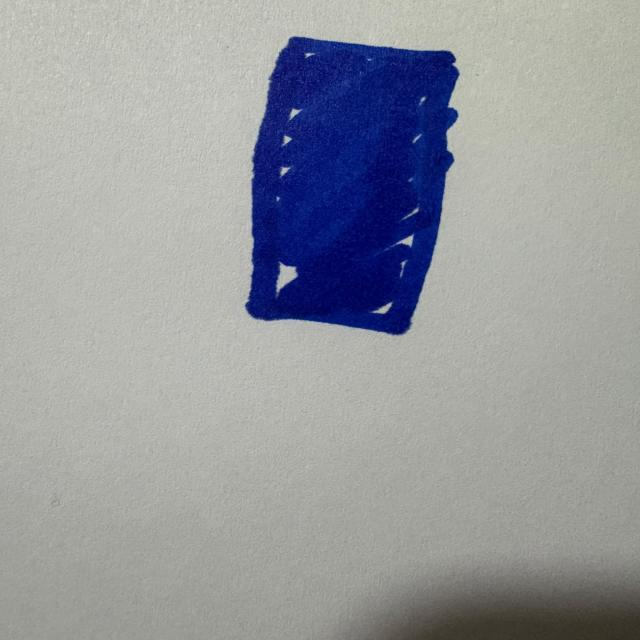Rectangle: (245, 37, 459, 336)
